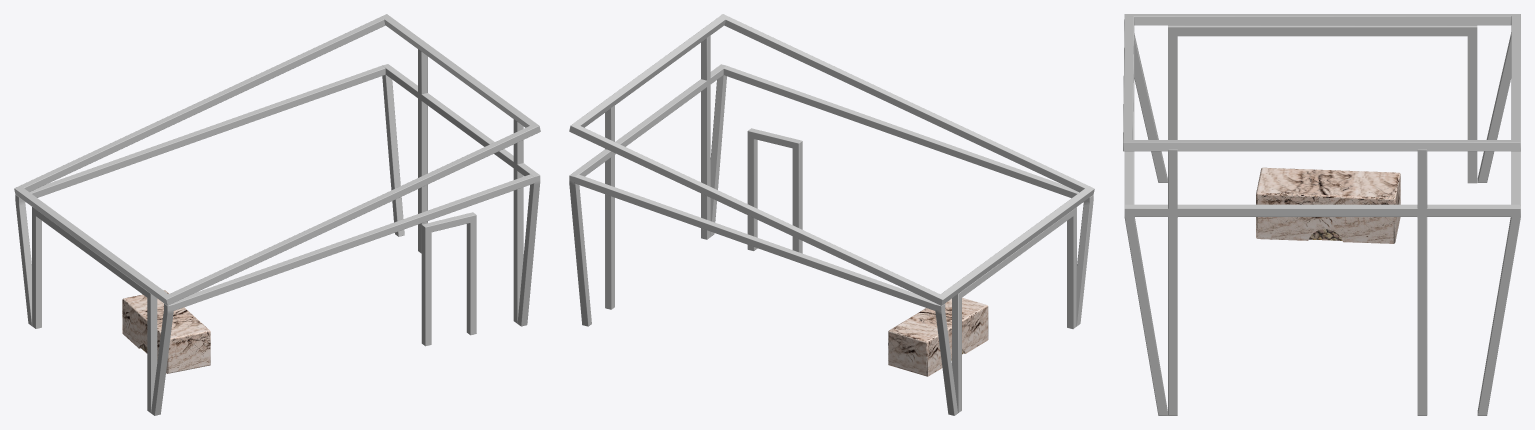
The model's file is preview.glb.
3 views of the same model, side by side, from view 1: azimuth 30°, elevation 25°; view 2: azimuth 150°, elevation 25°; view 3: azimuth 270°, elevation 25° (orthographic). The views are drawn at different scales.
Visible parts, largest first — view 1: Material2 (×2); view 2: Material2 (×2); view 3: Material2 (×2).
Part boxes in pixels (x1,y1,x2,y2): Material2 (×2): [14, 14, 540, 415]; Material2 (×2): [569, 14, 1094, 415]; Material2 (×2): [1123, 14, 1520, 415].
Size of the model in its own units: 229 by 123 by 162.
3 materials, 2 textured.
